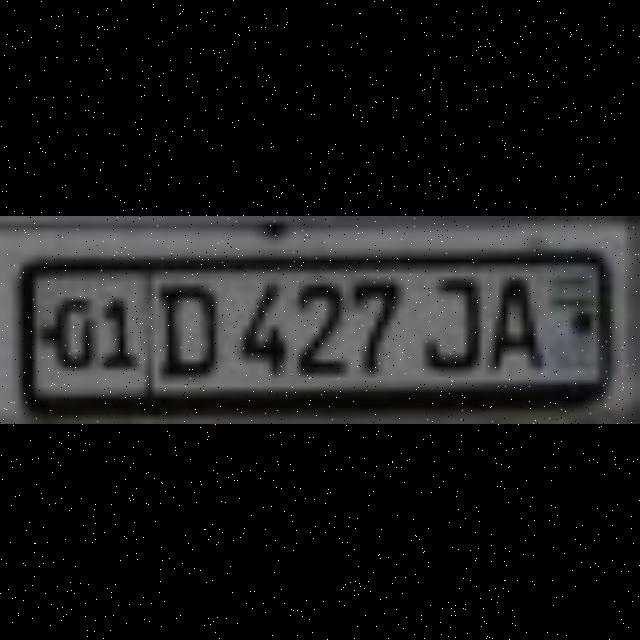0: (48, 292, 84, 362)
1: (90, 292, 132, 362)
2: (292, 279, 342, 369)
4: (236, 279, 278, 369)
7: (348, 272, 390, 362)
A: (486, 264, 536, 362)
D: (160, 279, 208, 369)
J: (411, 272, 474, 368)
